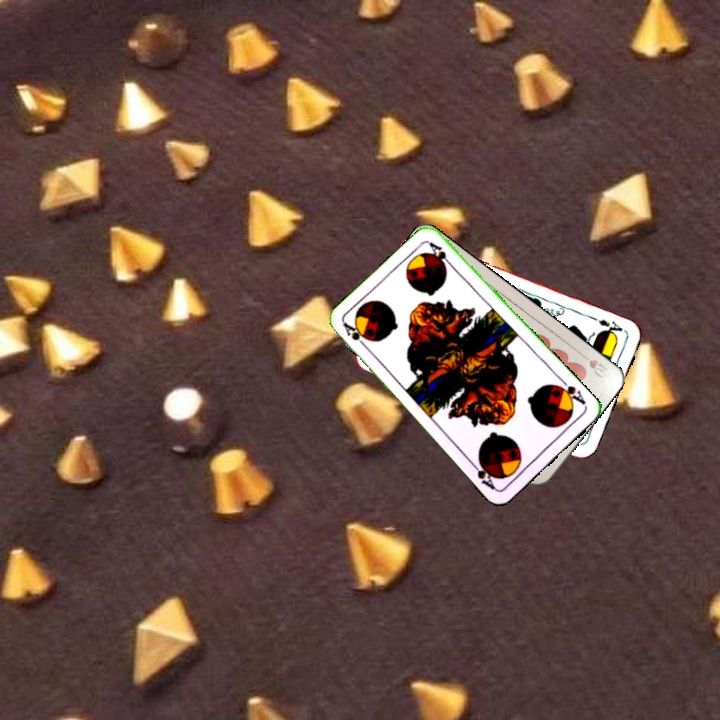EA: (594, 315, 628, 339)
H10: (576, 349, 613, 381)
SA: (552, 375, 588, 407), (339, 319, 371, 353)
